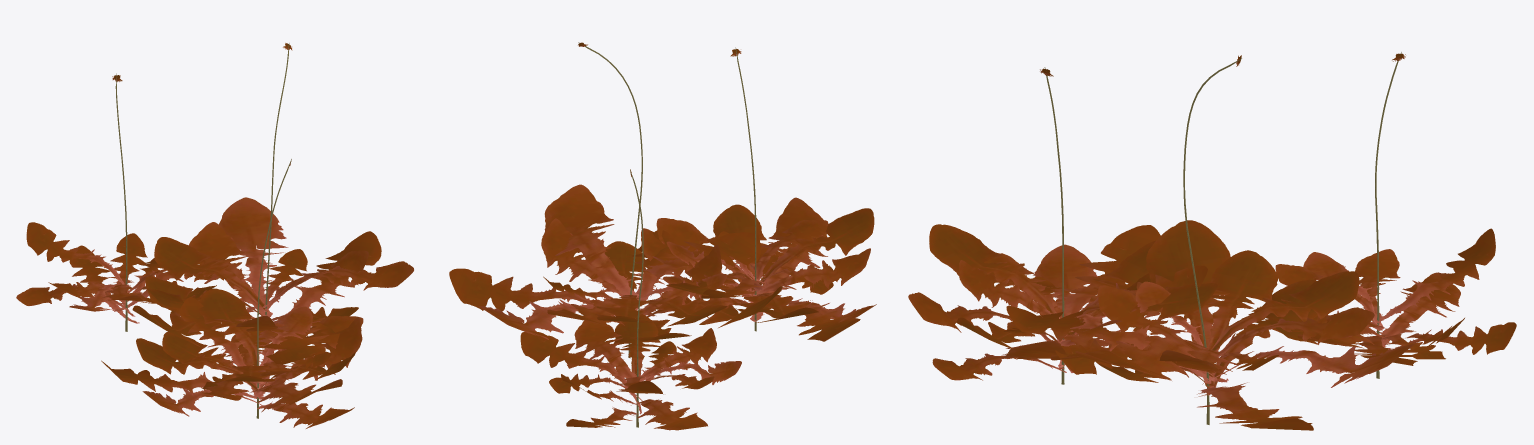
3 renders of one model, left to right at view 1: azimuth 30°, elevation 25°; view 2: azimuth 150°, elevation 25°; view 3: azimuth 270°, elevation 25°, orthographic. The views are drawn at different scales.
Visible parts, largest first — view 1: SM_DR_Dandelion_02_LOD0; view 2: SM_DR_Dandelion_02_LOD0; view 3: SM_DR_Dandelion_02_LOD0.
Part boxes in pixels (left/top/right/bottom): SM_DR_Dandelion_02_LOD0: left=16, top=43, right=413, bottom=428; SM_DR_Dandelion_02_LOD0: left=449, top=42, right=876, bottom=430; SM_DR_Dandelion_02_LOD0: left=908, top=52, right=1516, bottom=430.
Size of the model in its own units: 0.5808 by 0.5457 by 0.719.
1 material, 1 textured.
